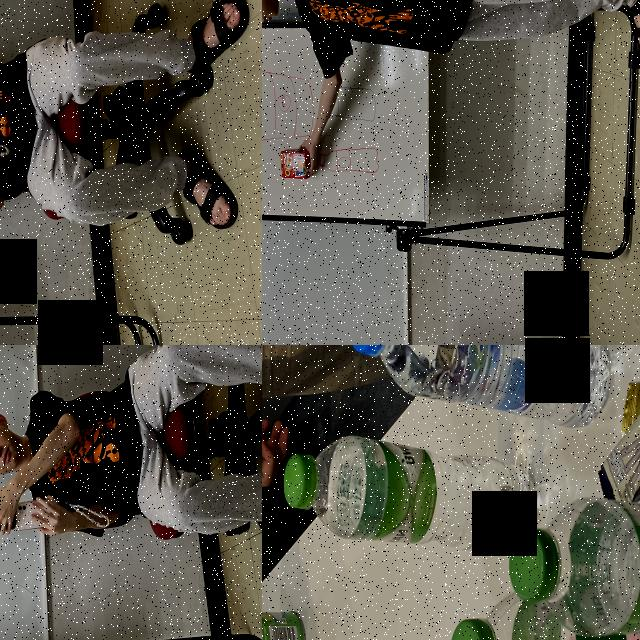bottle: (282, 436, 526, 558), (342, 345, 617, 431), (507, 496, 640, 637), (447, 590, 640, 640)
